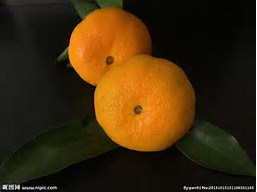orange: (95, 53, 197, 151), (69, 4, 150, 82)
